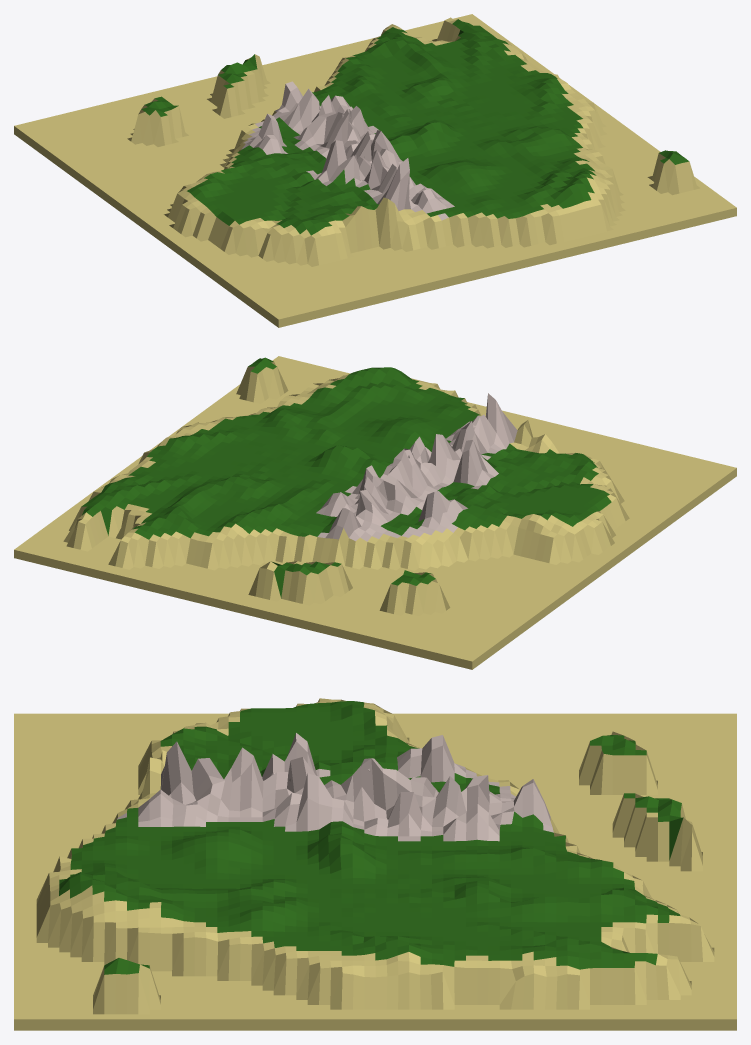
Rendered from LowPolyAvera.fbx.
The picture shows the model from 3 angles, top to bottom: view 1: azimuth 30°, elevation 25°; view 2: azimuth 150°, elevation 25°; view 3: azimuth 270°, elevation 25°; orthographic projection. The views are drawn at different scales.
Visible parts, largest first — view 1: Plane; view 2: Plane; view 3: Plane.
Part boxes in pixels (<box>): Plane: <box>14,14,736,327</box>; Plane: <box>14,356,736,669</box>; Plane: <box>14,698,736,1030</box>.
Bounding box in the file's own units: 12076 × 2030 × 12076.
